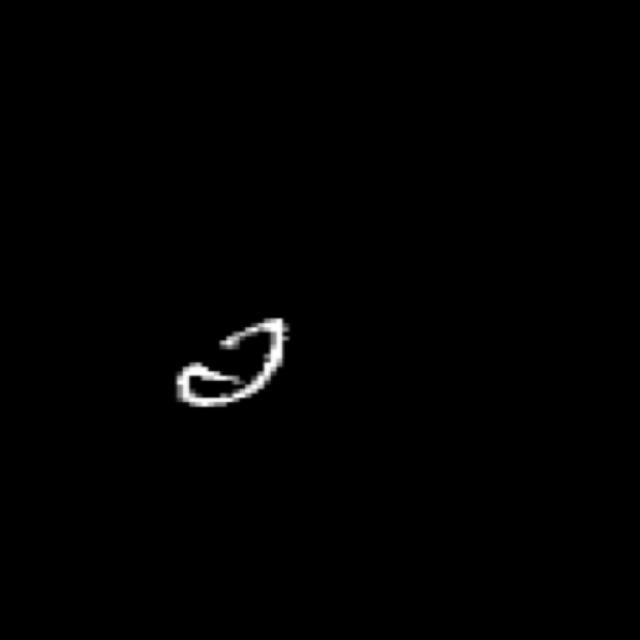two -2-: (166, 313, 306, 420)
